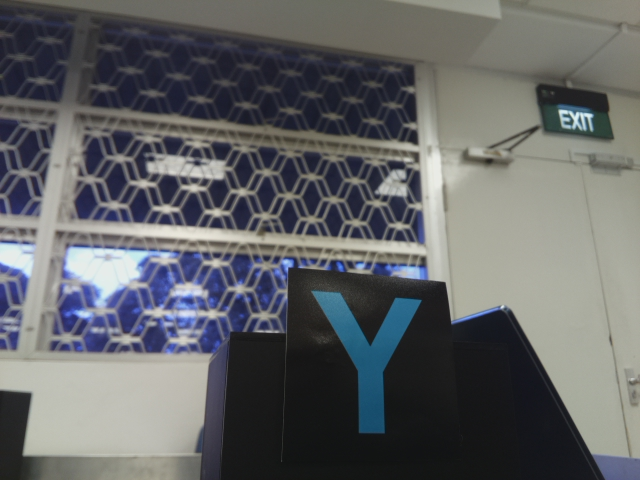y: (308, 284, 432, 441)
